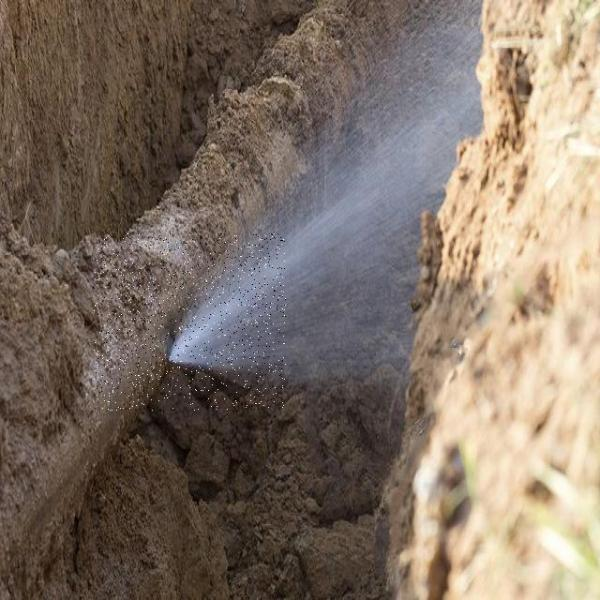water: (147, 308, 227, 380)
